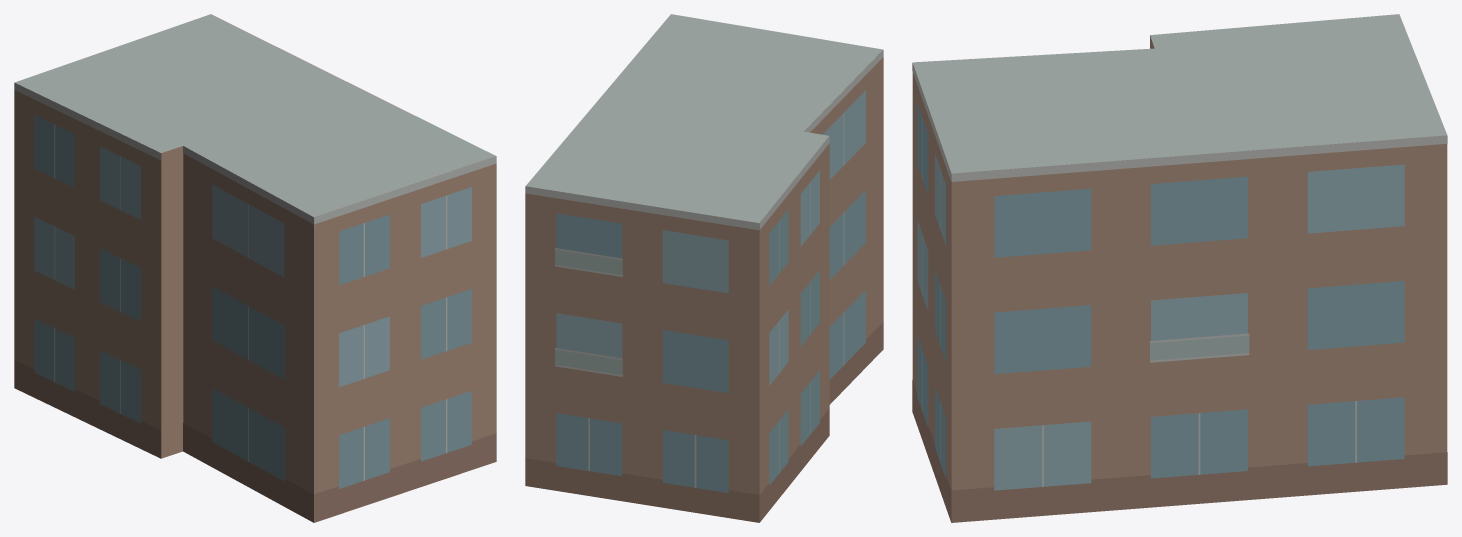
File: survey-upis-32621907.glb
The picture shows the model from 3 angles, left to right: view 1: azimuth 30°, elevation 25°; view 2: azimuth 150°, elevation 25°; view 3: azimuth 270°, elevation 25°; orthographic projection. The views are drawn at different scales.
Parts seen in each view (by area): view 1: survey-upis-32621907.tmp; view 2: survey-upis-32621907.tmp; view 3: survey-upis-32621907.tmp.
Part boxes in pixels (bbox=[...]): survey-upis-32621907.tmp: bbox=[14, 14, 496, 522]; survey-upis-32621907.tmp: bbox=[525, 14, 883, 522]; survey-upis-32621907.tmp: bbox=[912, 14, 1447, 522].
Size of the model in its own units: 10.01 by 10.2 by 14.17.
